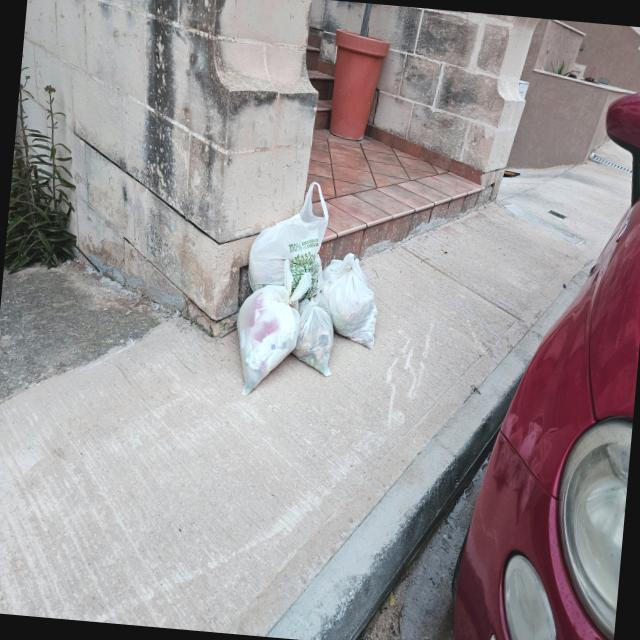white_bag: (227, 252, 314, 402), (314, 248, 385, 352), (292, 286, 344, 381)
